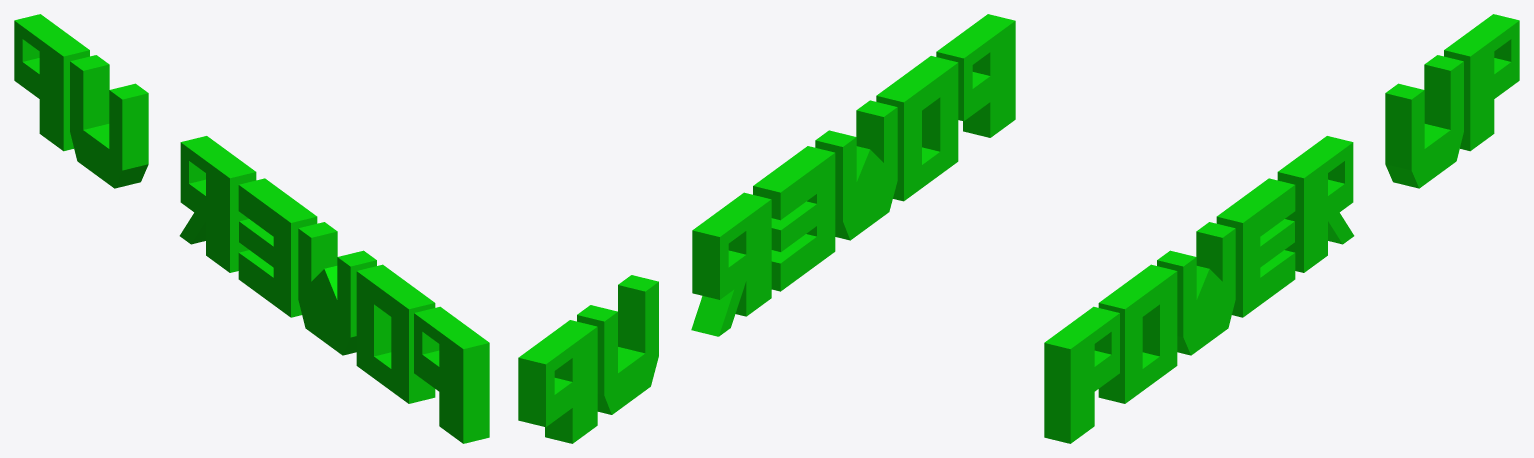
Rendered from power_up.fbx.
3 renders of one model, left to right at view 1: azimuth 30°, elevation 25°; view 2: azimuth 150°, elevation 25°; view 3: azimuth 330°, elevation 25°, orthographic. The views are drawn at different scales.
Visible parts, largest first — view 1: Plane.004; view 2: Plane.004; view 3: Plane.004.
Boxes of the visible parts, left/top/right/bottom form: Plane.004: left=14, top=14, right=489, bottom=443; Plane.004: left=518, top=14, right=1015, bottom=443; Plane.004: left=1044, top=14, right=1519, bottom=443.
Size of the model in its own units: 58.16 by 200 by 1719.
